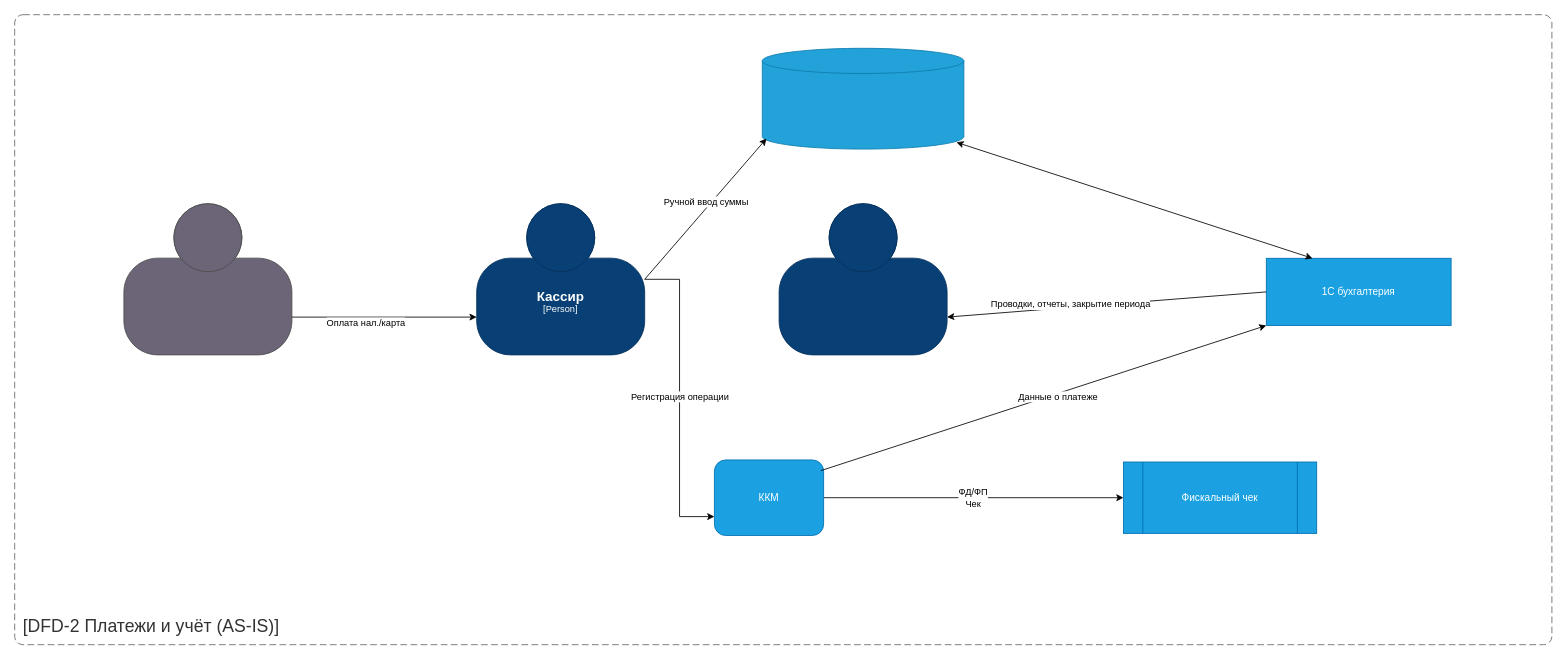
The diagram is 1567 pixels wide and 659 high, and some of its shapes have lost their labels. Here are the shapes that lost their labels. From the top down, the centre of each, then its label:
pixel 862 98: Платежи [: EXEL] Ручной учет
pixel 207 279: Пациент [Person]
pixel 862 279: Бухгалтер [Person]
